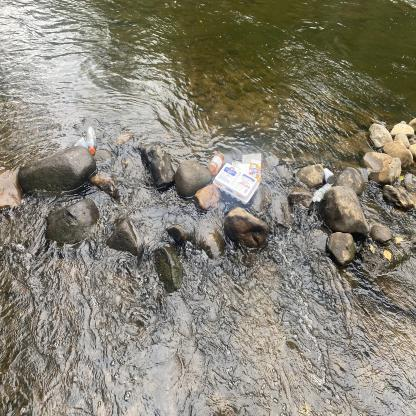trash: (212, 161, 261, 207), (229, 148, 263, 186), (204, 150, 226, 178), (84, 122, 102, 155), (310, 181, 334, 204), (320, 166, 337, 188), (74, 133, 89, 157)
